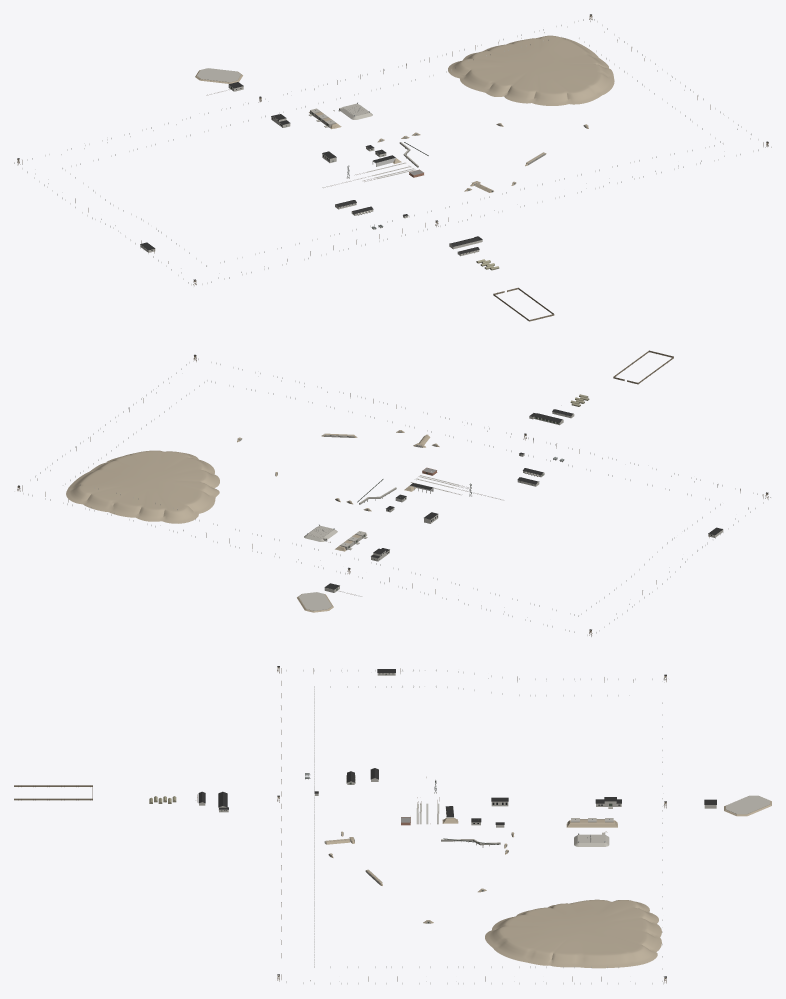
3 views of the same model, one above another, from view 1: azimuth 30°, elevation 25°; view 2: azimuth 150°, elevation 25°; view 3: azimuth 270°, elevation 25° (orthographic). The views are drawn at different scales.
Parts seen in each view (by area): view 1: SpoilHeap_Earth; view 2: SpoilHeap_Earth; view 3: SpoilHeap_Earth, Site51_ConcretePad.
Part boxes in pixels (left/top/right/bottom): SpoilHeap_Earth: left=448, top=35, right=614, bottom=105; SpoilHeap_Earth: left=66, top=450, right=219, bottom=523; SpoilHeap_Earth: left=485, top=899, right=661, bottom=968; Site51_ConcretePad: left=726, top=795, right=769, bottom=814.
Size of the model in its own units: 922 by 34.08 by 953.
